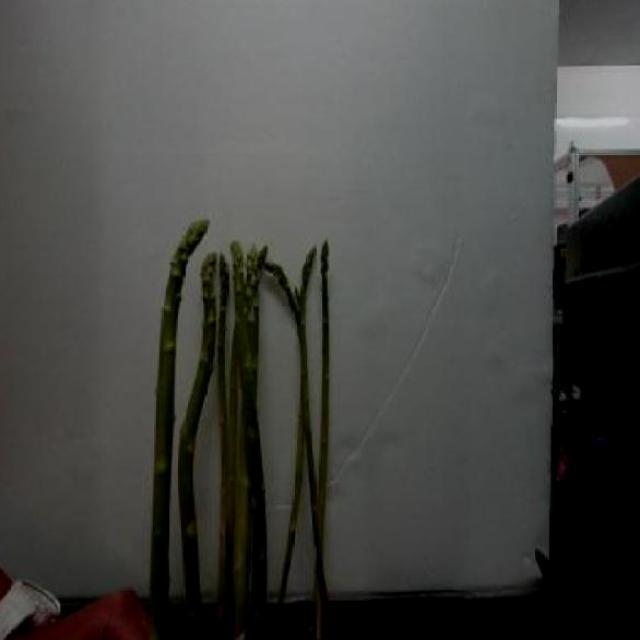aspargus: (148, 220, 209, 640), (178, 250, 222, 640)
